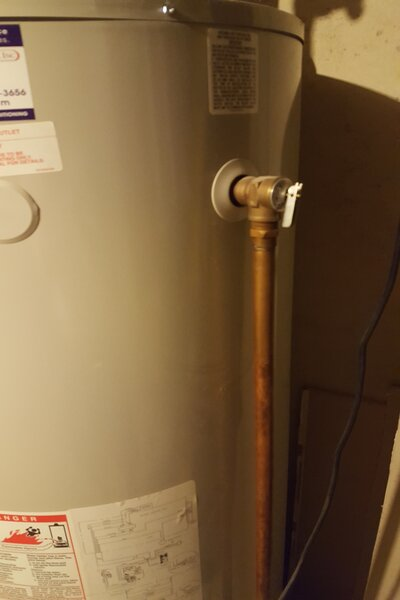valve: (227, 171, 307, 267)
